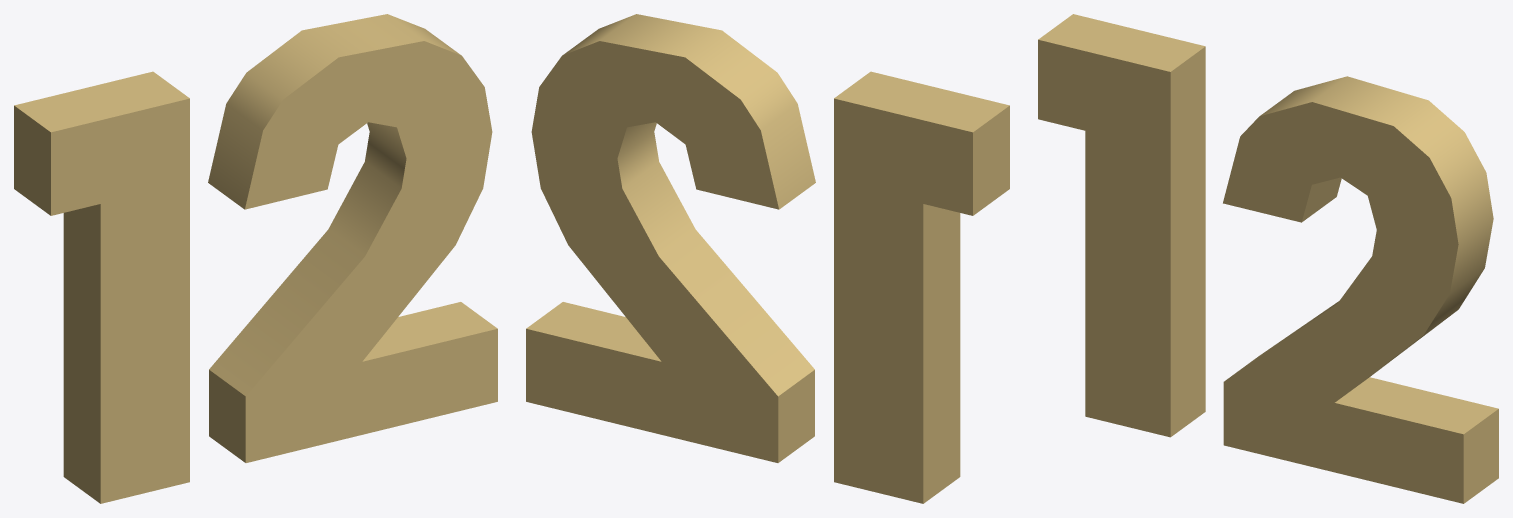
File: kr_num_12.glb
3 renders of one model, left to right at view 1: azimuth 30°, elevation 25°; view 2: azimuth 150°, elevation 25°; view 3: azimuth 330°, elevation 25°, orthographic. The views are drawn at different scales.
Parts seen in each view (by area): view 1: vc_m8_r2; view 2: vc_m8_r2; view 3: vc_m8_r2.
Boxes of the visible parts, x1,y1,x2,y2 form: vc_m8_r2: (14, 14, 497, 503); vc_m8_r2: (526, 14, 1009, 503); vc_m8_r2: (1038, 14, 1498, 503).
Bounding box in the file's own units: 0.4202 × 0.3491 × 0.06.
